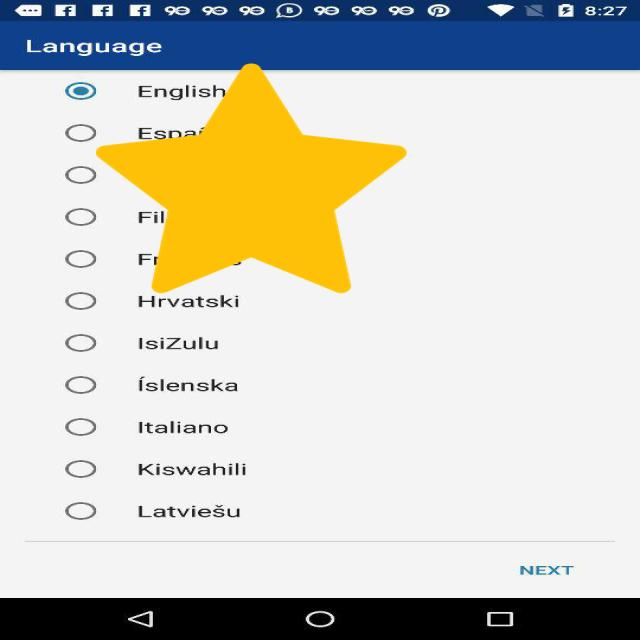forced continuity: (96, 64, 407, 294)
